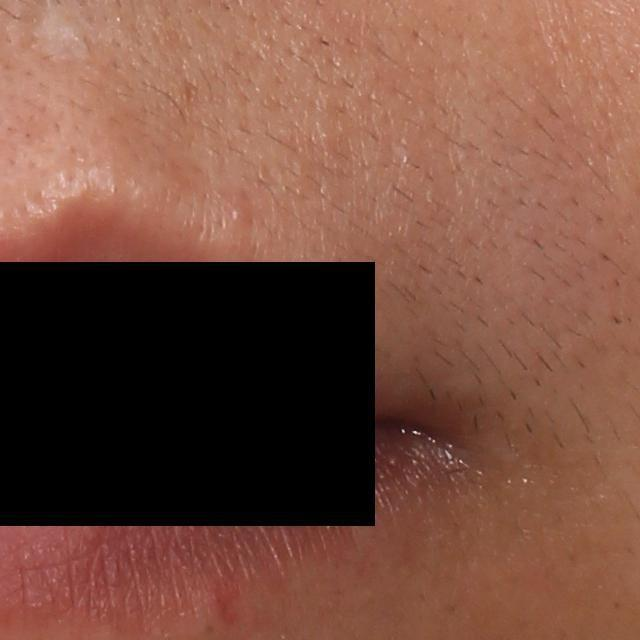comedo: (222, 198, 256, 231)
hypertrophic_scar: (35, 1, 88, 59)
